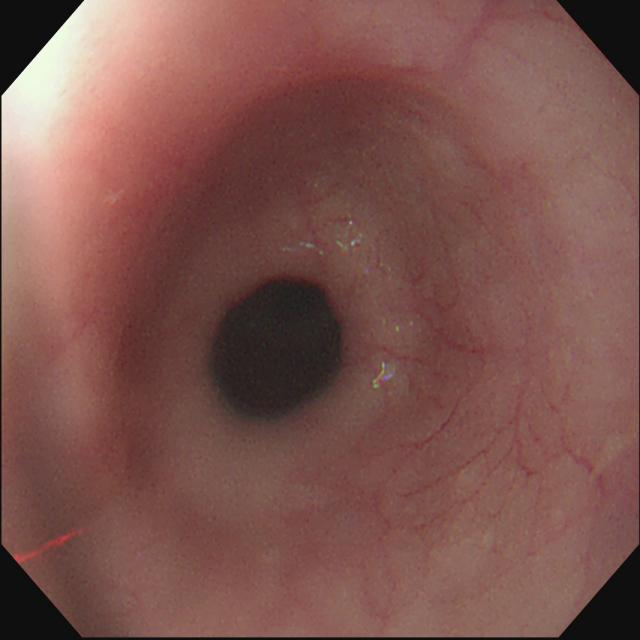E: (214, 281, 345, 417)
